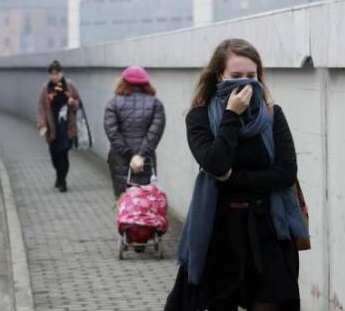person: (163, 36, 317, 311), (102, 63, 171, 255), (36, 58, 93, 196)
